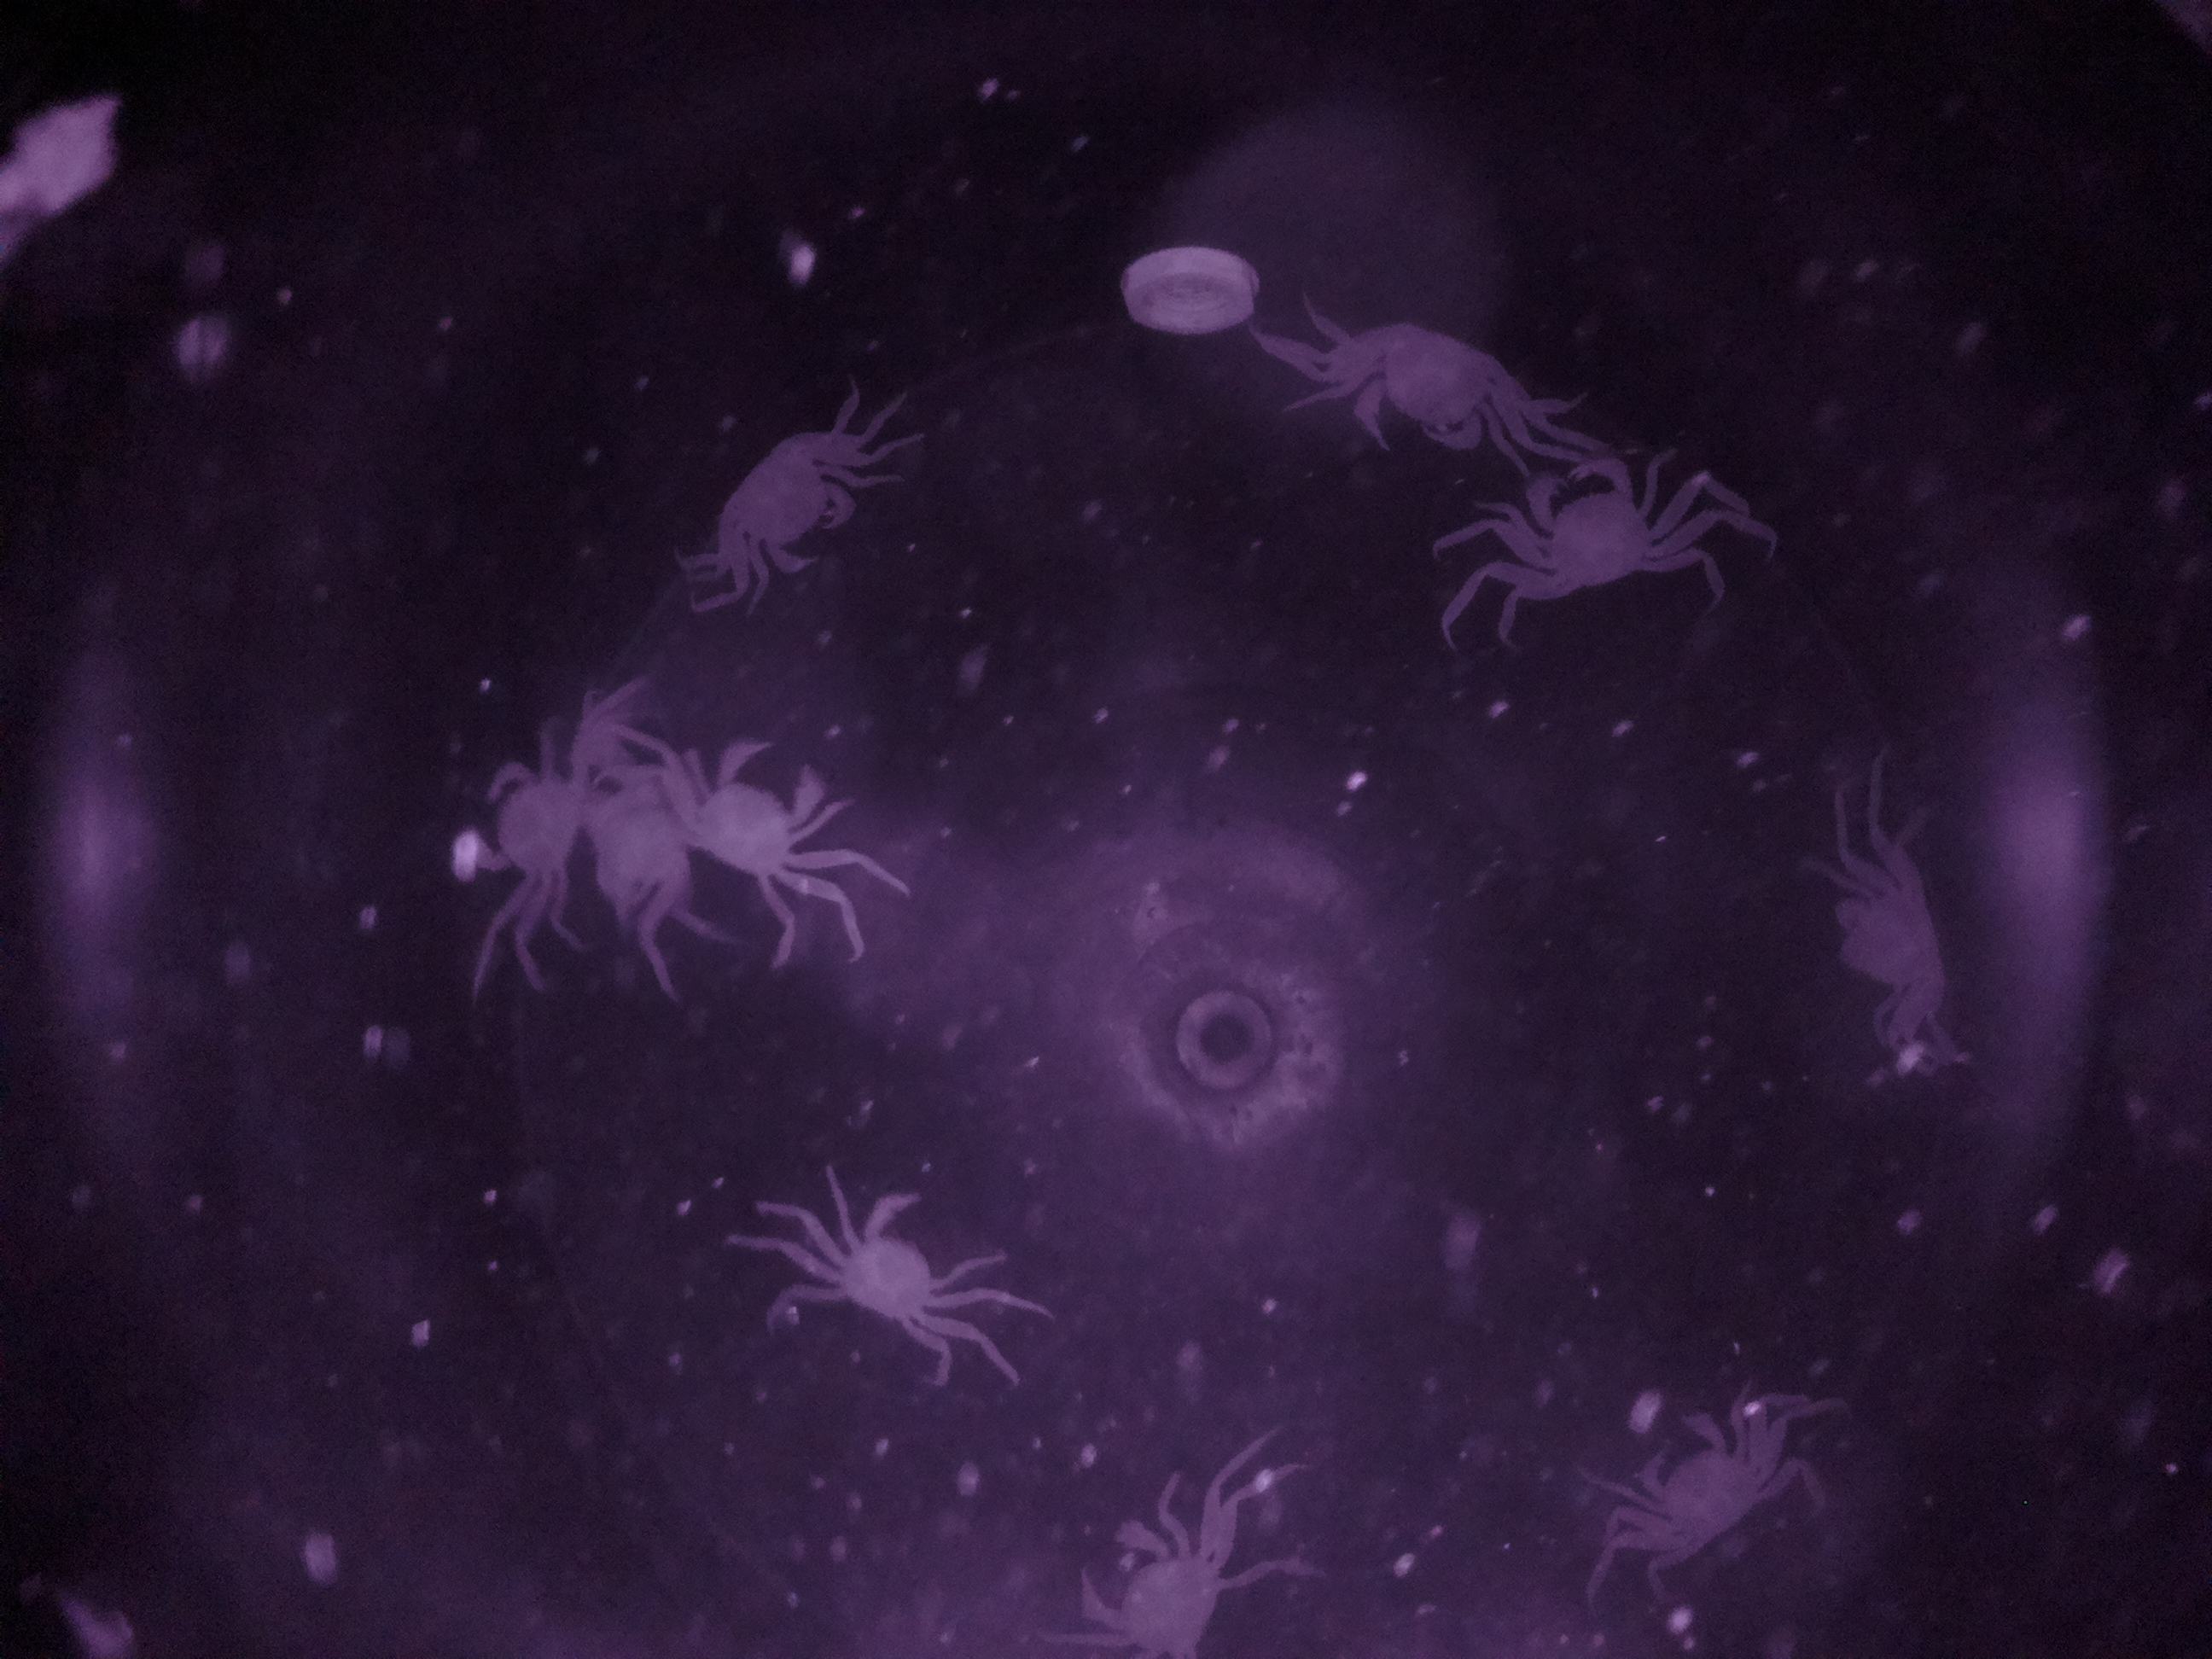Crab: (1487, 446, 1695, 629), (1602, 1385, 1792, 1579), (1318, 308, 1526, 483), (820, 1159, 1007, 1352), (674, 714, 850, 918), (700, 415, 867, 598)
